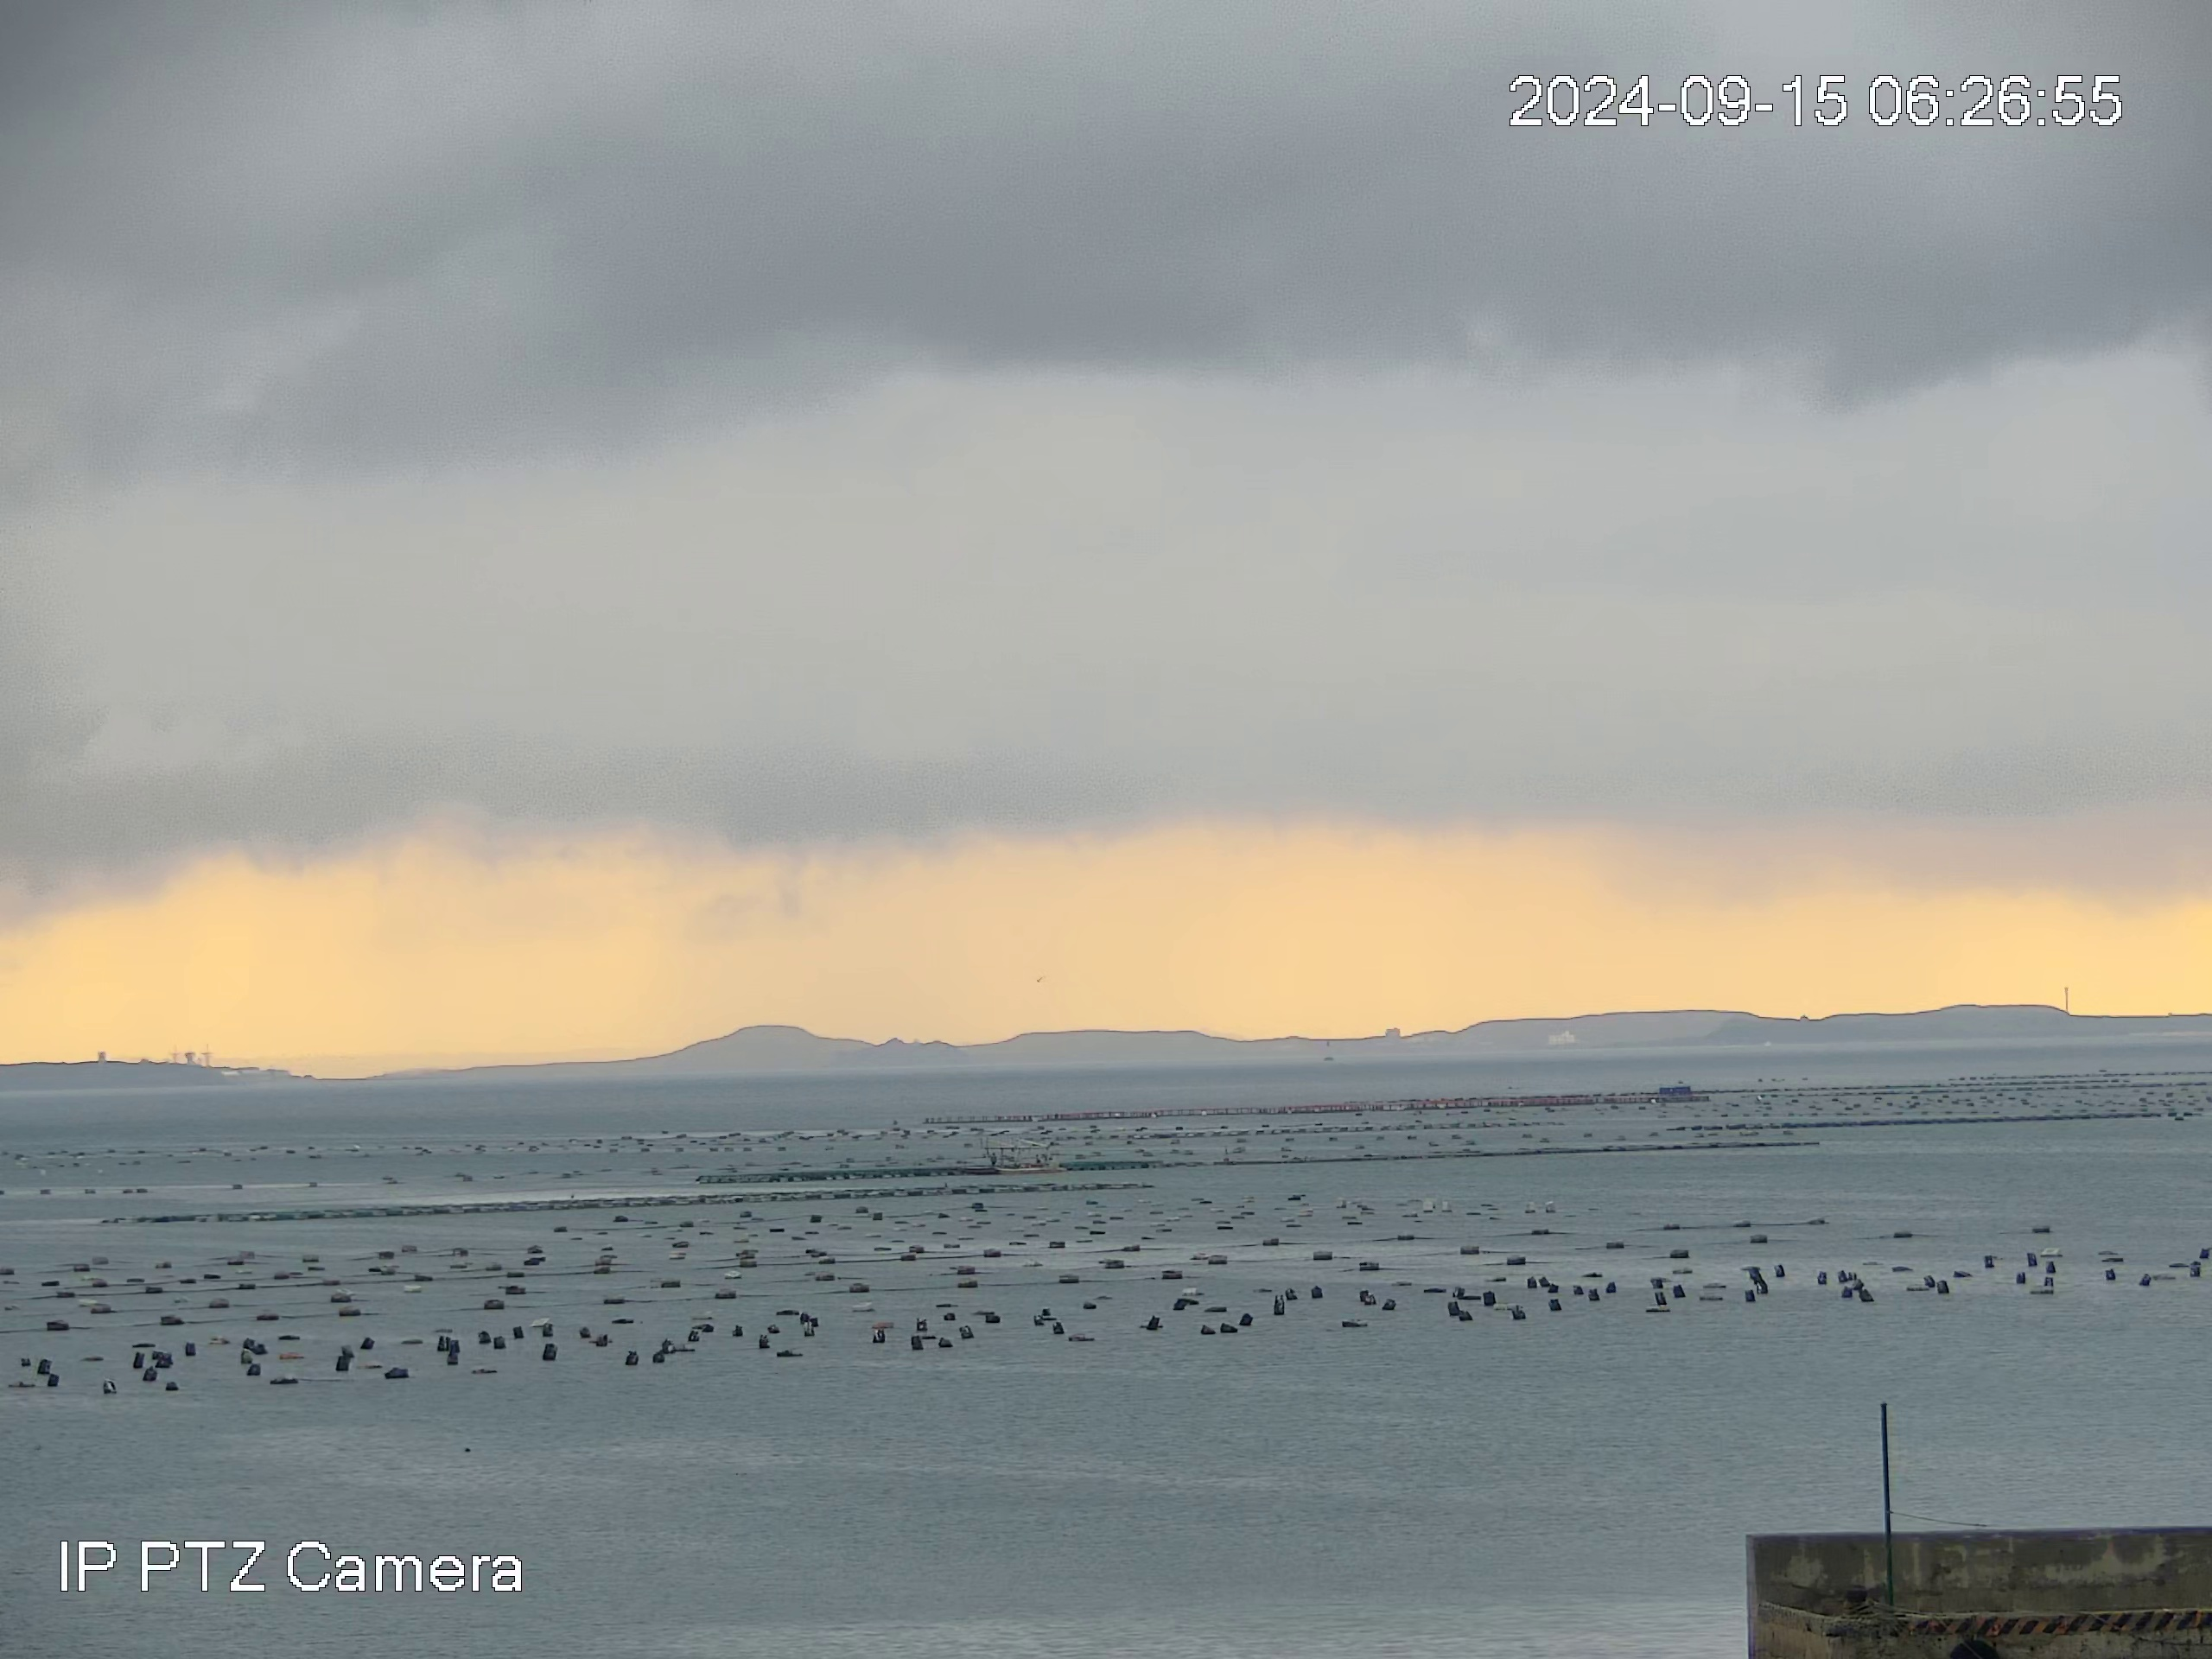boat: (979, 1133, 1069, 1176)
